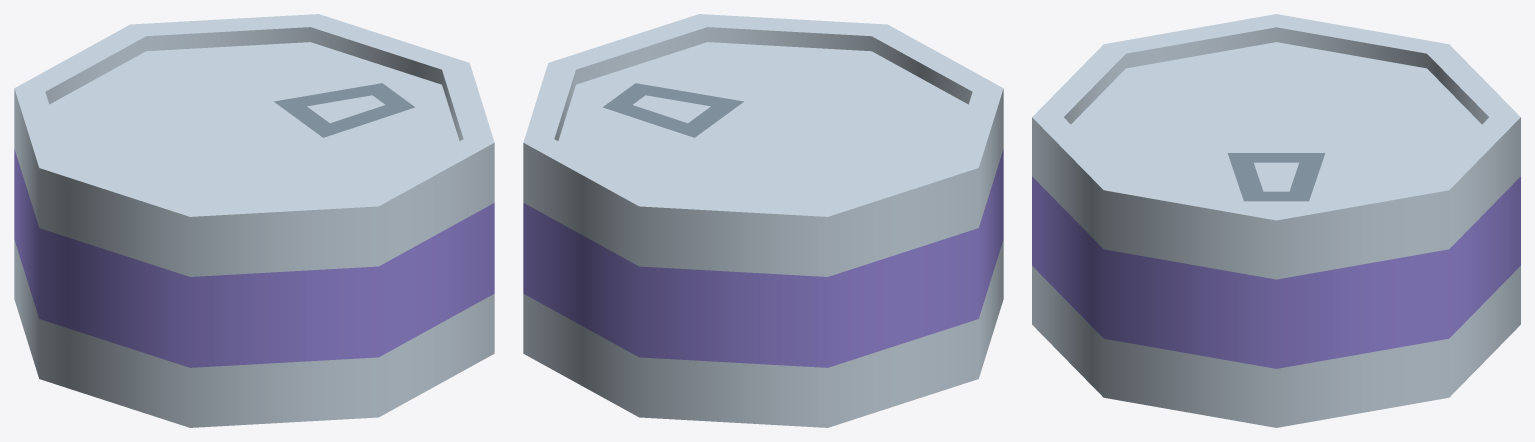
Rendered from Can Small.glb.
3 views of the same model, side by side, from view 1: azimuth 30°, elevation 25°; view 2: azimuth 150°, elevation 25°; view 3: azimuth 270°, elevation 25° (orthographic).
Parts seen in each view (by area): view 1: canSmall; view 2: canSmall; view 3: canSmall.
Part boxes in pixels (x1=…): canSmall: x1=14, y1=14, x2=494, y2=427; canSmall: x1=523, y1=14, x2=1003, y2=427; canSmall: x1=1032, y1=14, x2=1520, y2=427.
Bounding box in the file's own units: 0.3 × 0.1405 × 0.3.
